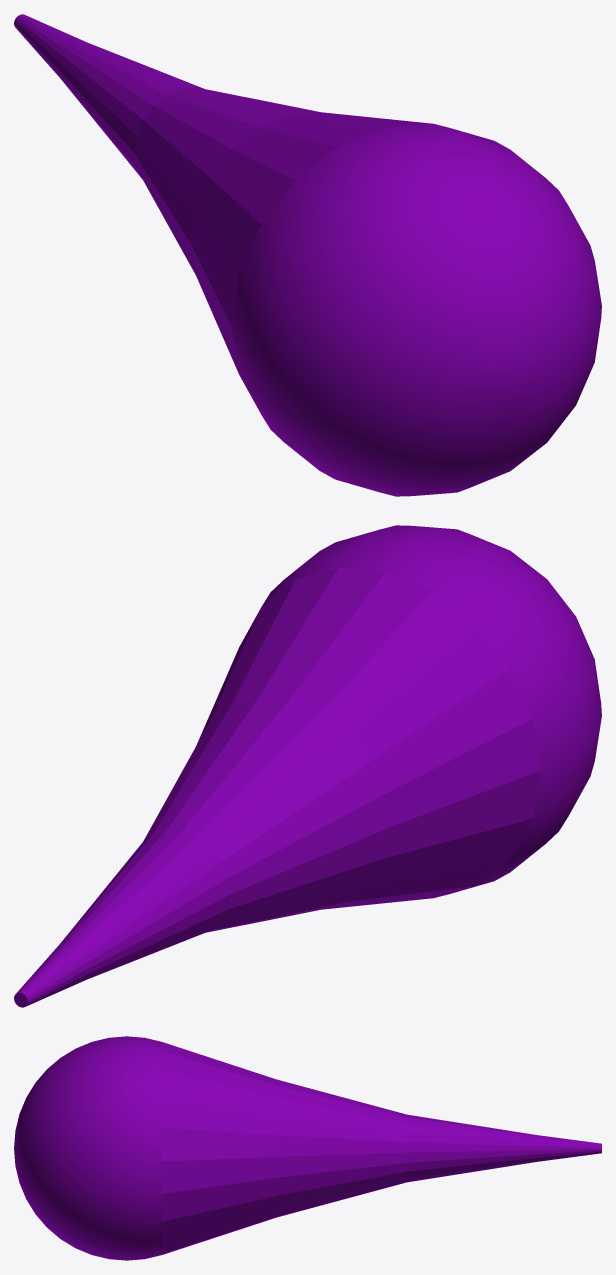
File: Mage_Projectile.fbx
3 renders of one model, top to bottom at view 1: azimuth 30°, elevation 25°; view 2: azimuth 150°, elevation 25°; view 3: azimuth 270°, elevation 25°, orthographic. The views are drawn at different scales.
Parts seen in each view (by area): view 1: pSphere1; view 2: pSphere1; view 3: pSphere1.
Part boxes in pixels (bbox=[...]): pSphere1: bbox=[14, 14, 601, 496]; pSphere1: bbox=[14, 525, 601, 1007]; pSphere1: bbox=[14, 1036, 601, 1260].
Size of the model in its own units: 5.93 by 5.93 by 15.43.
